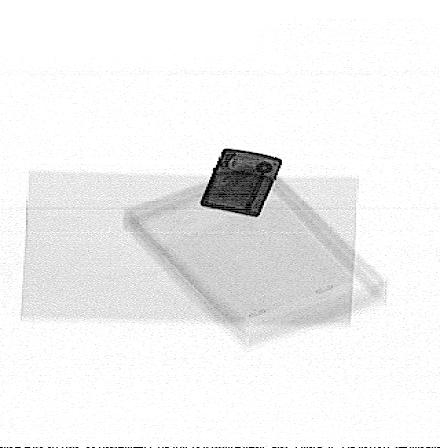Lighter: (199, 148, 283, 219)
